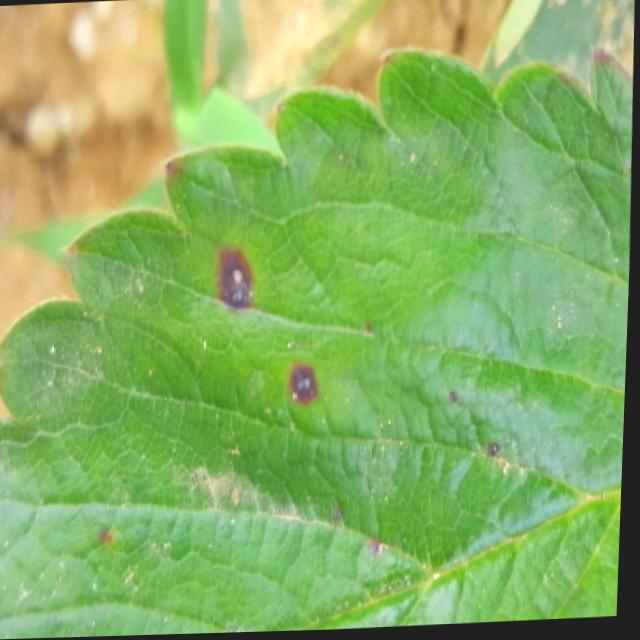Leaf Spot: (0, 47, 633, 640)
